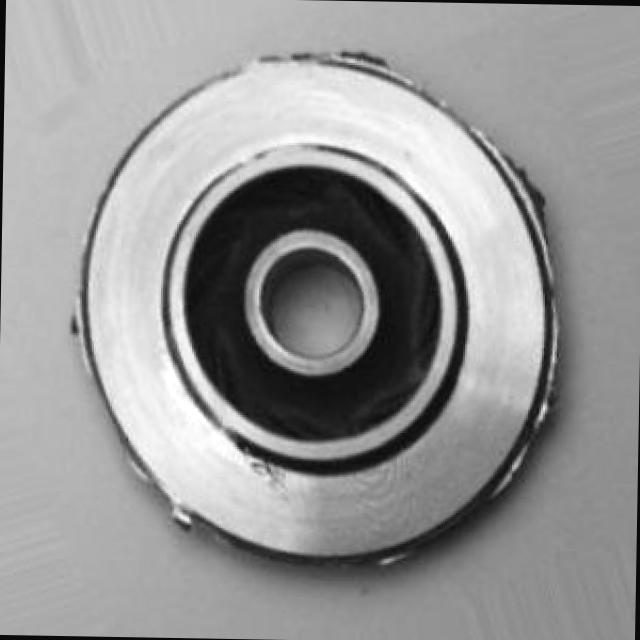Defect: (222, 440, 294, 492)
